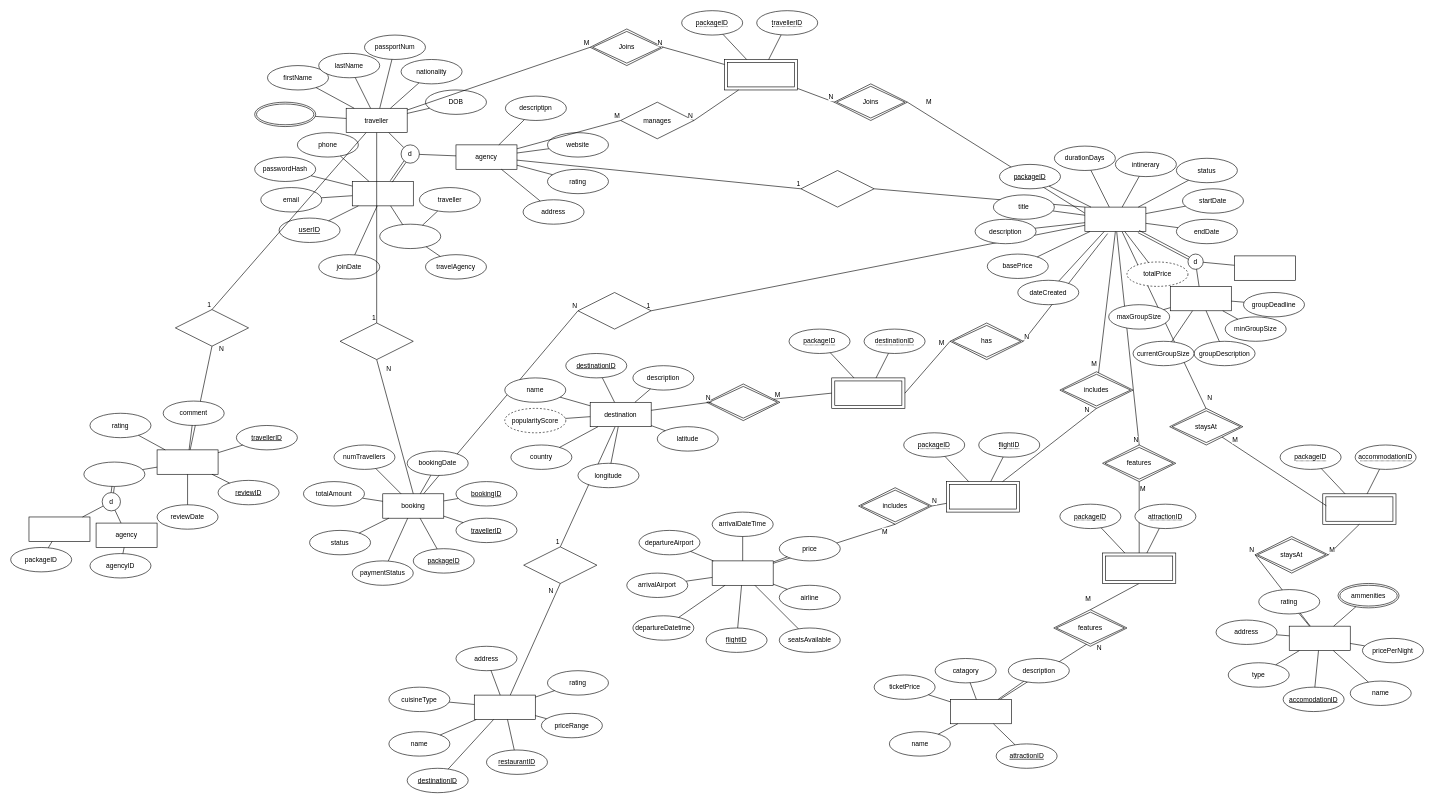
Some shapes in this 1434 by 803 pixel diagram are drawn without their labels. Each missing label, with the centre of its shape:
"accomodation" belongs at (x=1319, y=638).
"books" belongs at (x=614, y=310).
"creates" belongs at (x=837, y=188).
"flight" belongs at (x=742, y=572).
"Group" belongs at (x=1200, y=298).
"GroupTrip" belongs at (x=761, y=74).
"locatedIn" belongs at (x=560, y=564).
"makes" belongs at (x=376, y=341).
"package" belongs at (x=59, y=528).
"PackageAccommodation" belongs at (x=1359, y=508).
"PackageAttraction" belongs at (x=1139, y=567).
"PackageDestination" belongs at (x=868, y=392).
"PackageFlight" belongs at (x=983, y=496).
"preferences" belongs at (x=285, y=114).
"RegularPackage" belongs at (x=1264, y=267).
"restaurant" belongs at (x=504, y=706).
"review" belongs at (x=187, y=461).
"role" belongs at (x=410, y=236).
"targetType" belongs at (x=114, y=473).
"touristAttraction" belongs at (x=980, y=711).
"travelPackage" belongs at (x=1115, y=218).
"user" belongs at (x=382, y=193).
"visits" belongs at (x=743, y=402).
"writes" belongs at (x=212, y=327).
